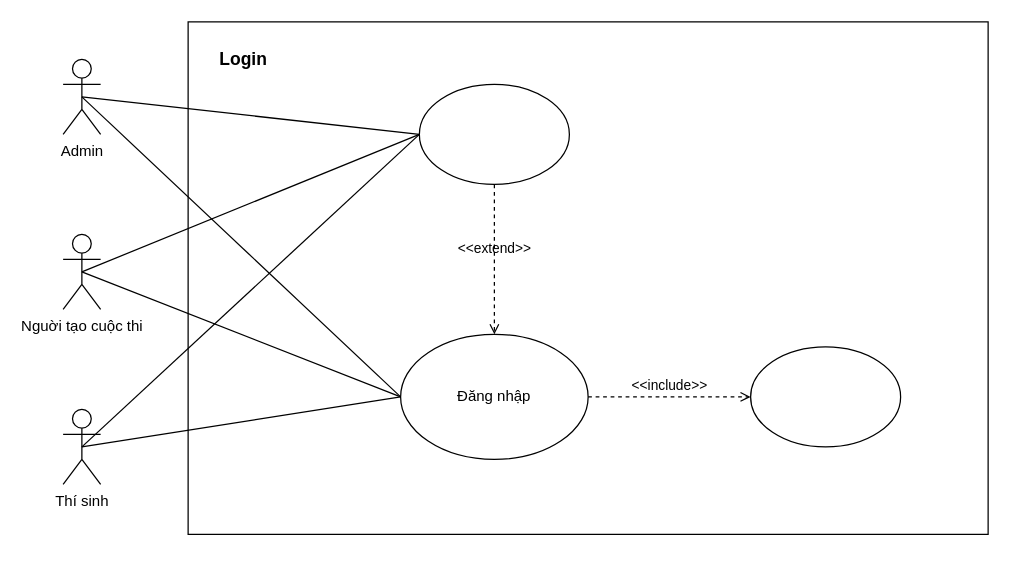
Some shapes in this 1010 by 569 pixel diagram are drawn without their labels. Each missing label, with the box of its shape:
Validate: (749, 346, 901, 447)
Đăng ký: (418, 83, 569, 184)
